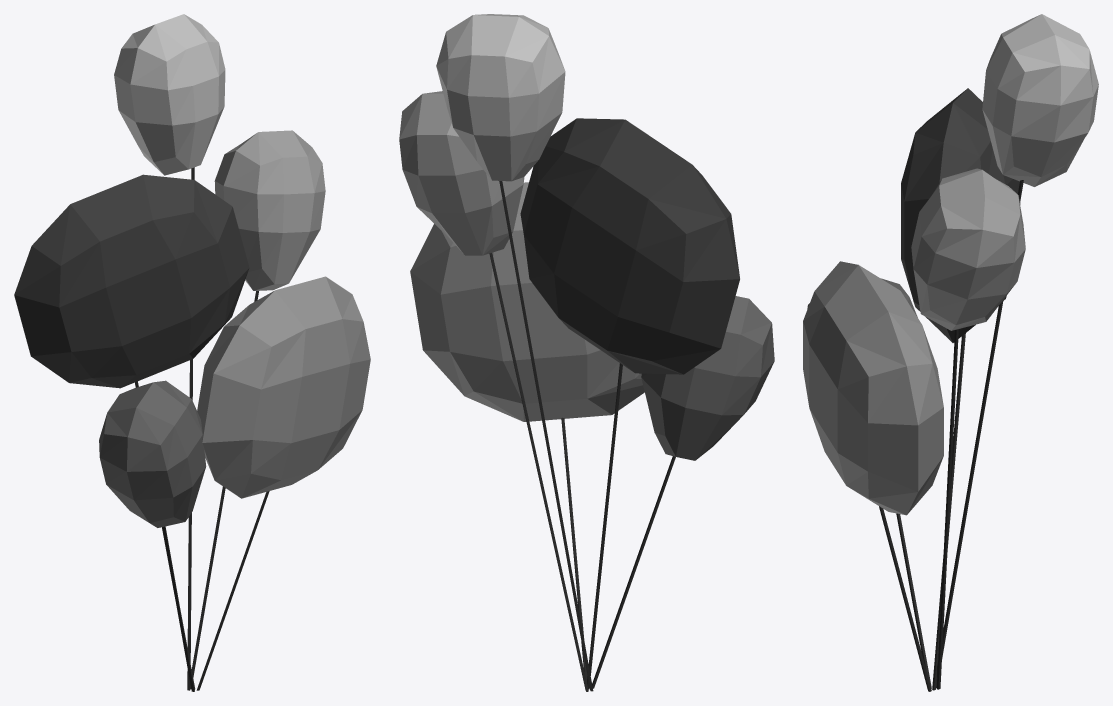
Rendered from balloons.FBX.
3 renders of one model, left to right at view 1: azimuth 30°, elevation 25°; view 2: azimuth 150°, elevation 25°; view 3: azimuth 270°, elevation 25°, orthographic. The views are drawn at different scales.
Parts seen in each view (by area): view 1: balloons; view 2: balloons; view 3: balloons.
Boxes of the visible parts, box(x1,y1,x2,y2) form: balloons: box(14, 14, 370, 691); balloons: box(399, 14, 774, 691); balloons: box(803, 14, 1098, 691).
Size of the model in its own units: 46.62 by 86.93 by 34.19.
